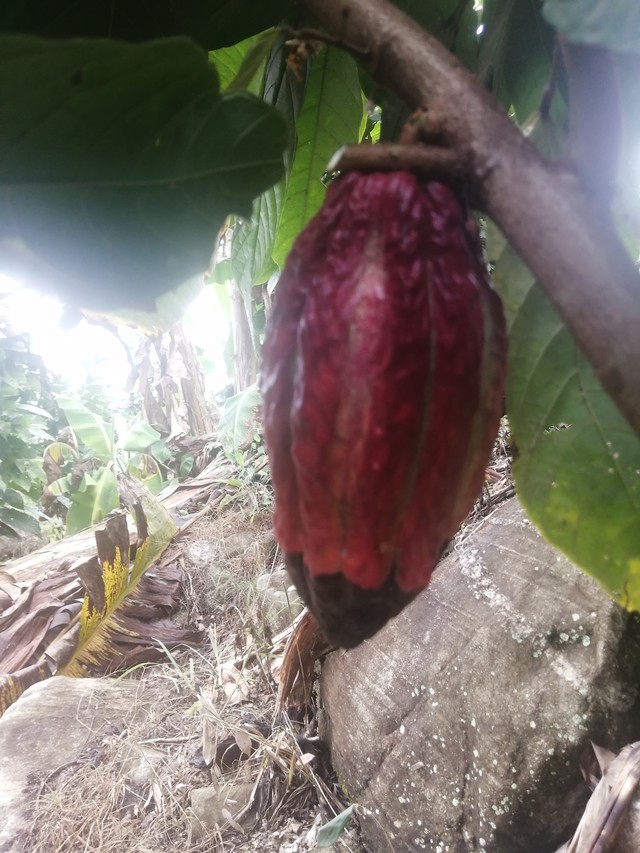phytophthora palmivora: (245, 144, 519, 659)
